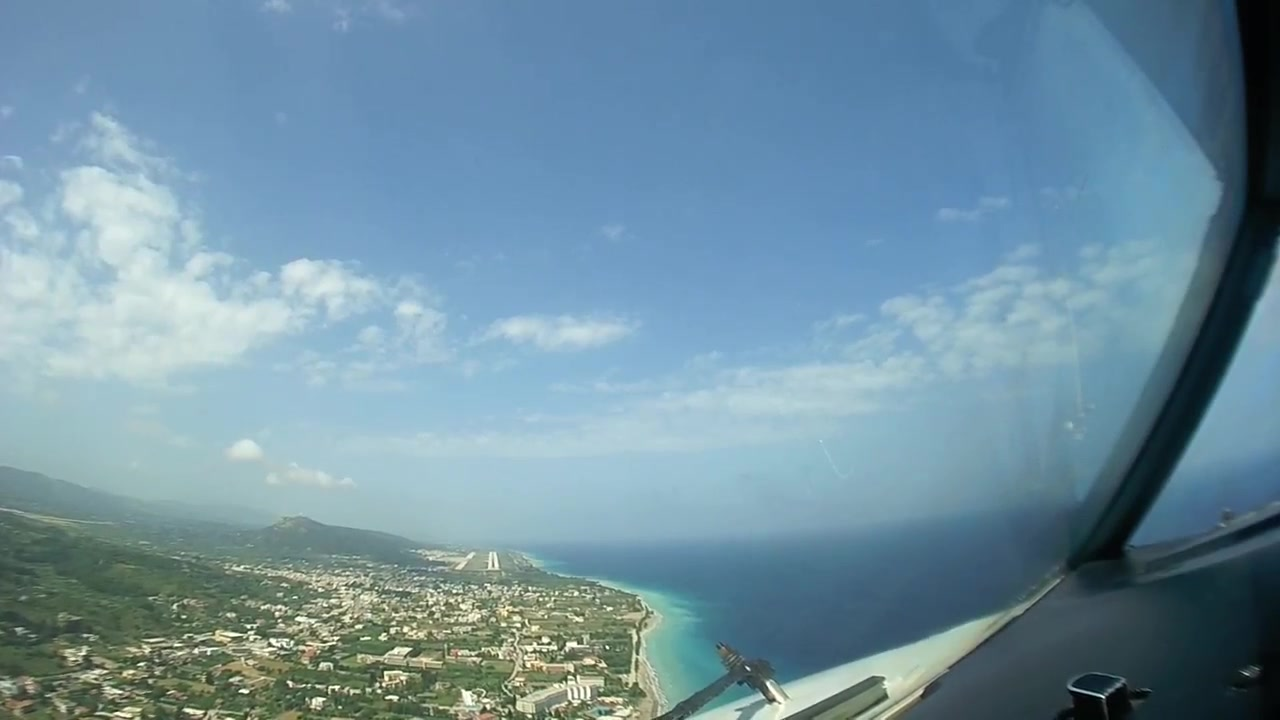runway: (484, 551, 501, 573)
